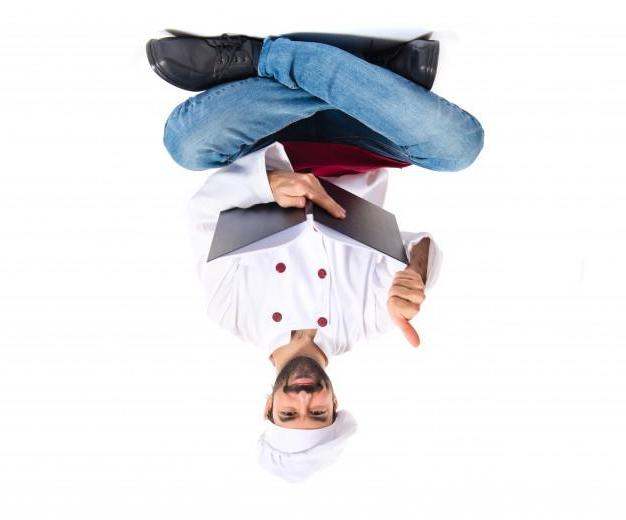thumbsdown: (387, 270, 427, 349)
